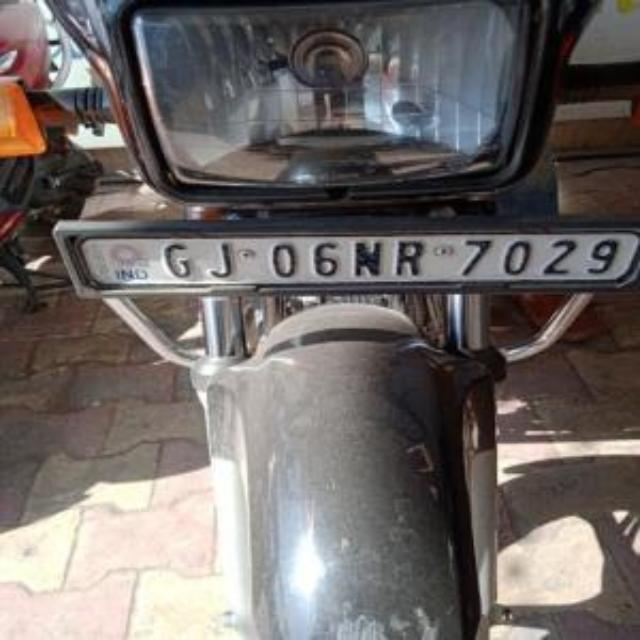License Plate: (78, 229, 640, 295)
